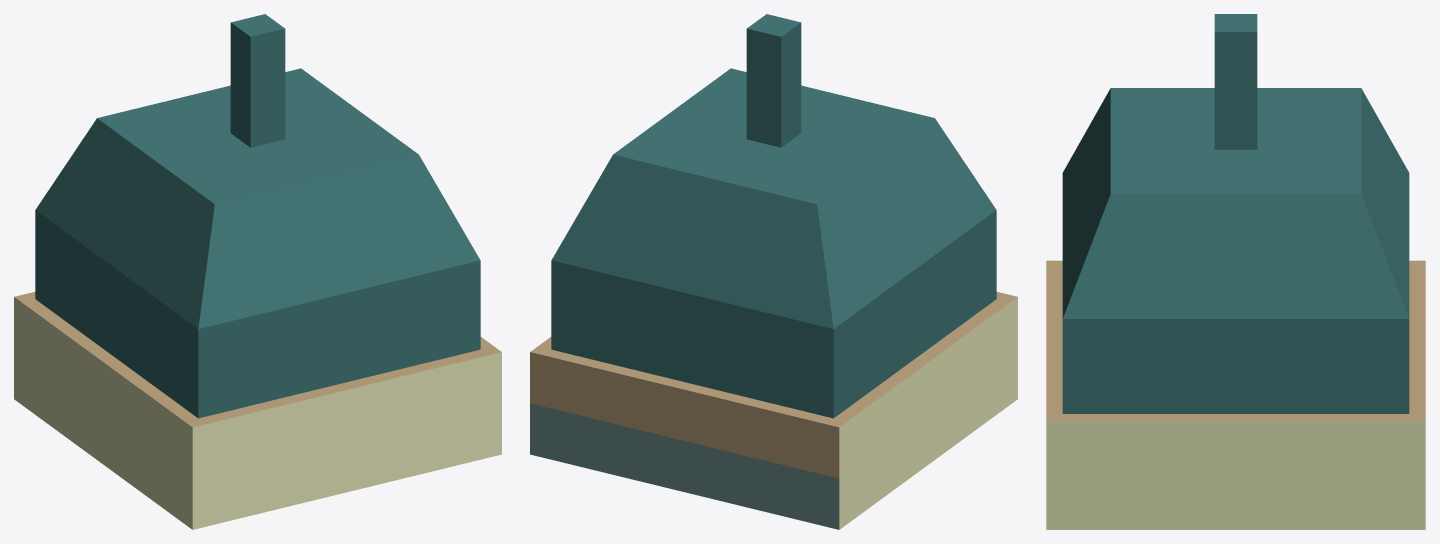
Rendered from Pilar03.fbx.
The picture shows the model from 3 angles, left to right: view 1: azimuth 30°, elevation 25°; view 2: azimuth 150°, elevation 25°; view 3: azimuth 270°, elevation 25°; orthographic projection. The views are drawn at different scales.
Parts seen in each view (by area): view 1: Cube.115; view 2: Cube.115; view 3: Cube.115.
Part boxes in pixels (x1,y1,x2,y2): Cube.115: (14,14,501,529); Cube.115: (530,14,1017,529); Cube.115: (1046,14,1425,529).
Bounding box in the file's own units: 504 × 625 × 504.
